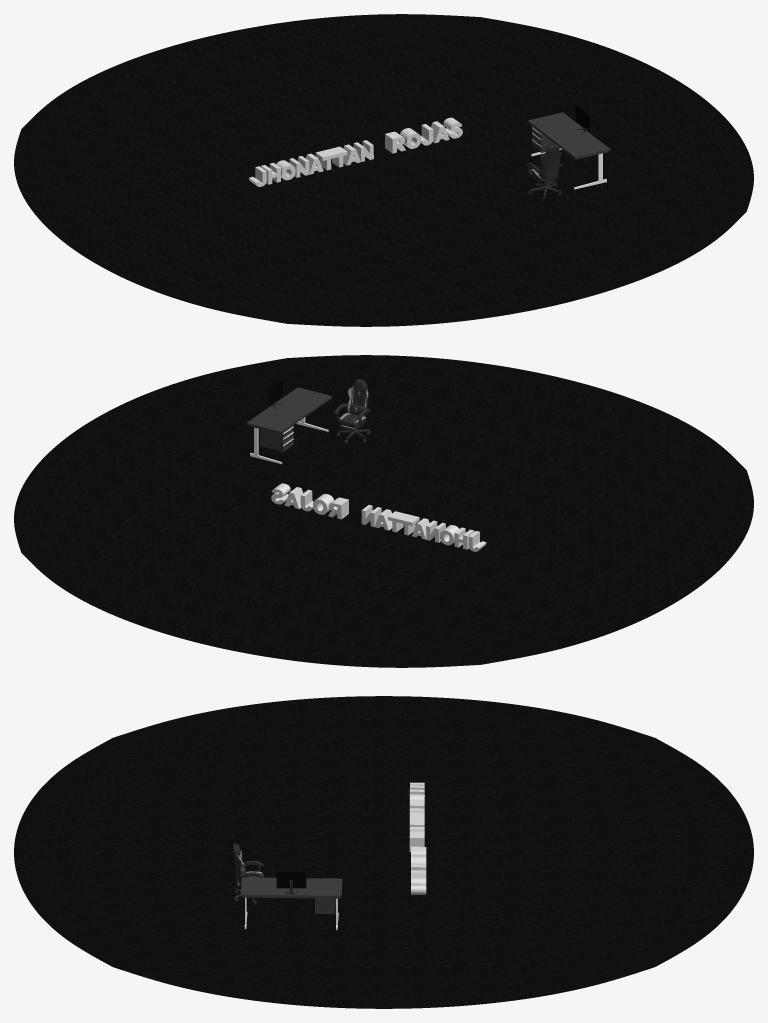
File: Escene-meshopt.glb
The picture shows the model from 3 angles, top to bottom: view 1: azimuth 30°, elevation 25°; view 2: azimuth 150°, elevation 25°; view 3: azimuth 270°, elevation 25°; orthographic projection. The views are drawn at different scales.
Parts seen in each view (by area): view 1: Floor, Desk, TextJhonattan, TextRojas, Gaming Chair.001; view 2: Floor, Desk, TextJhonattan, TextRojas, Gaming Chair.001; view 3: Floor, Desk, TextJhonattan, TextRojas, Gaming Chair.001.
Part boxes in pixels (x1,y1,x2,y2): Floor: [14, 14, 753, 326]; Desk: [527, 112, 610, 189]; TextJhonattan: [249, 140, 373, 186]; TextRojas: [385, 117, 462, 153]; Gaming Chair.001: [526, 144, 562, 199]; Floor: [14, 355, 753, 667]; Desk: [246, 387, 332, 464]; TextJhonattan: [361, 505, 486, 551]; TextRojas: [271, 483, 348, 519]; Gaming Chair.001: [334, 379, 370, 443]; Floor: [14, 696, 753, 1008]; Desk: [240, 877, 342, 930]; TextJhonattan: [409, 782, 424, 851]; TextRojas: [411, 846, 426, 894]; Gaming Chair.001: [233, 843, 263, 904].
Bounding box in the file's own units: 15.02 × 1.27 × 15.02.
Materials: 5 (3 with a texture image).
